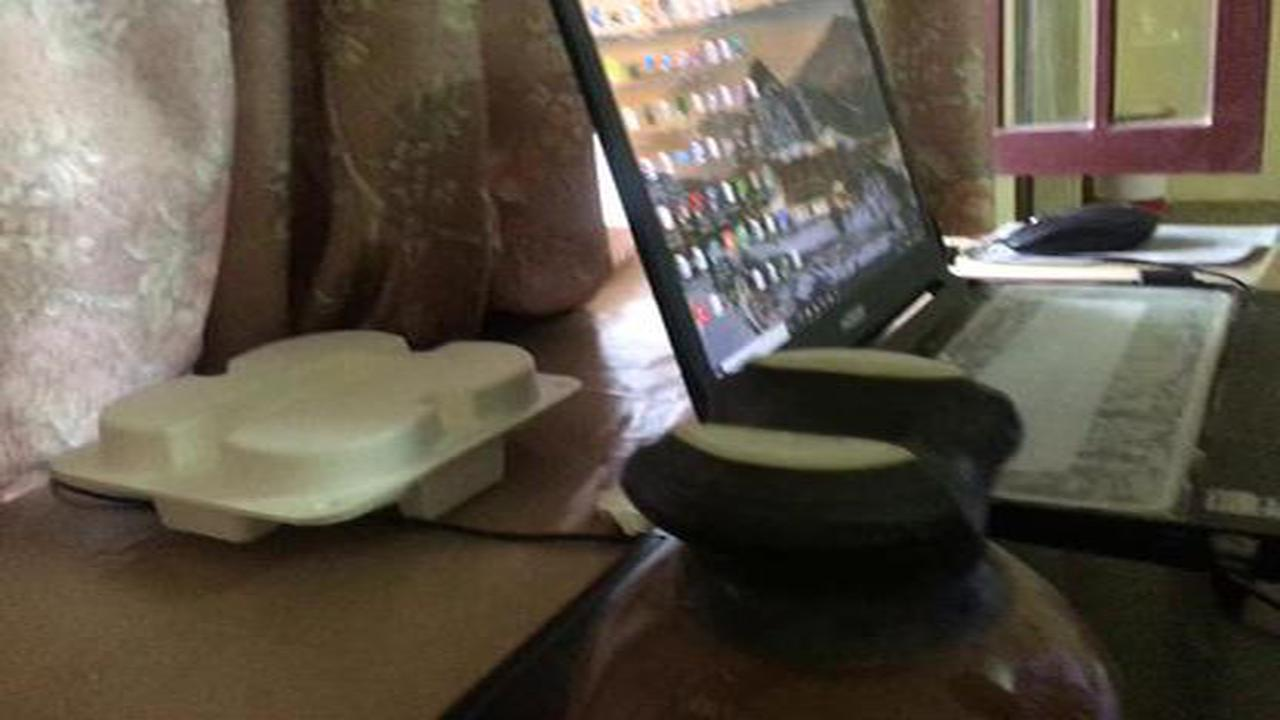insulator_pin: (557, 328, 1139, 715)
